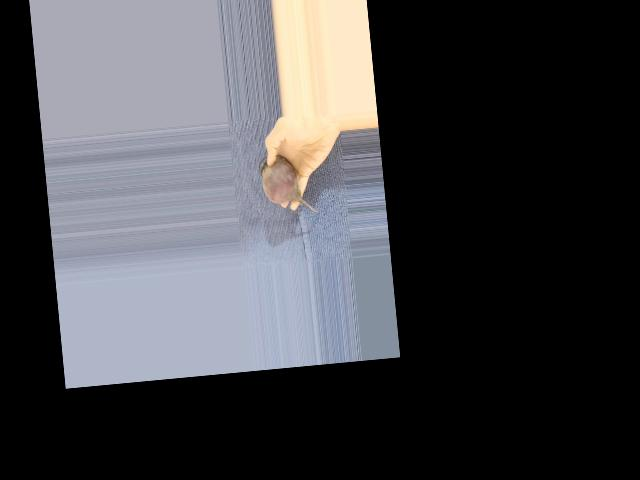beet: (257, 152, 318, 218)
